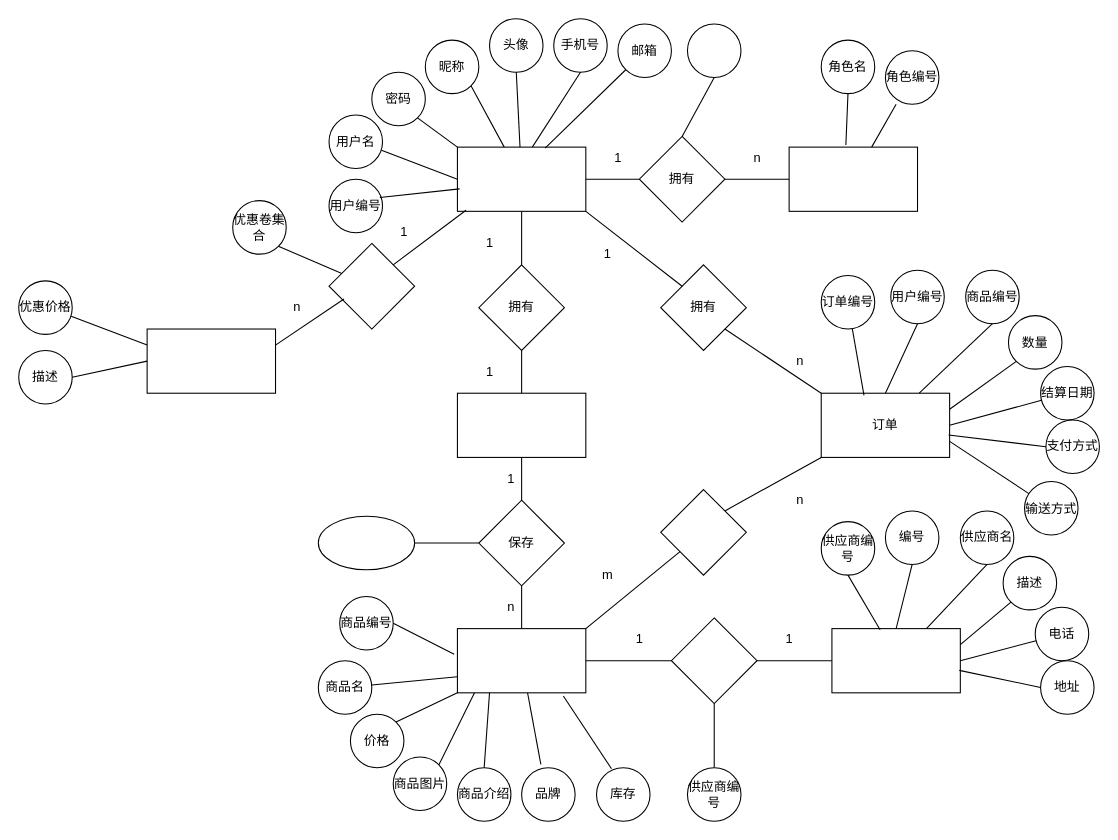
This 1118x840 diagram has some shape labels left out. Each missing label, with the box of its shape:
优惠卷: (146, 328, 276, 393)
供应商: (831, 628, 960, 693)
含有: (660, 488, 746, 575)
商品: (456, 628, 586, 693)
商品加入购物车时间: (317, 515, 415, 570)
持有: (328, 242, 415, 329)
提供: (670, 617, 757, 704)
用户: (456, 146, 586, 211)
角色: (788, 146, 918, 211)
角色集合: (686, 23, 741, 78)
购物车: (456, 392, 586, 457)
